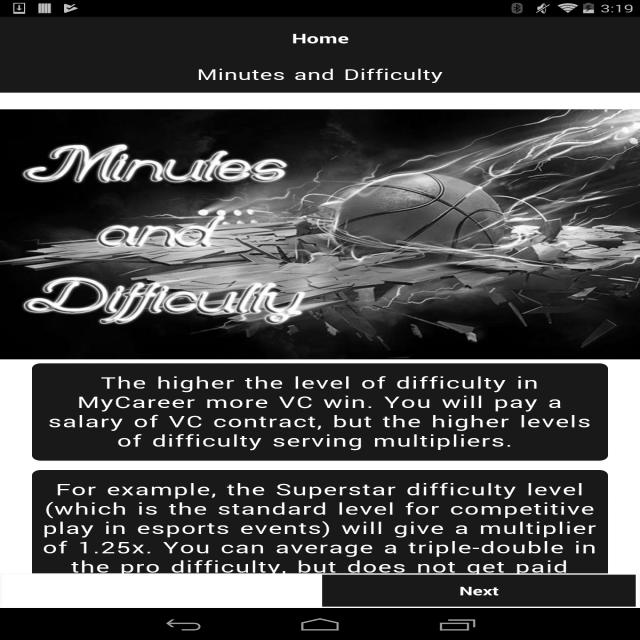Button: (316, 571, 634, 613)
ImageView: (4, 111, 632, 359)
TextView: (54, 482, 606, 564), (46, 379, 597, 455), (192, 64, 450, 86), (275, 27, 370, 51)
